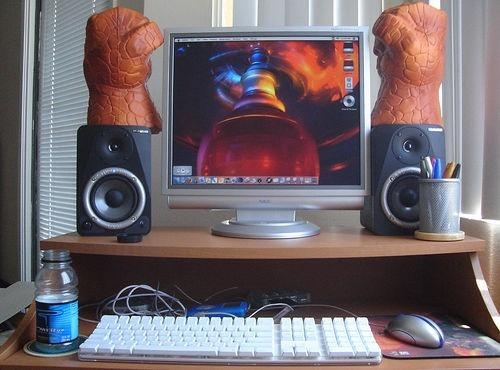bottle: (36, 250, 79, 354)
tvmonitor: (160, 26, 371, 241)
